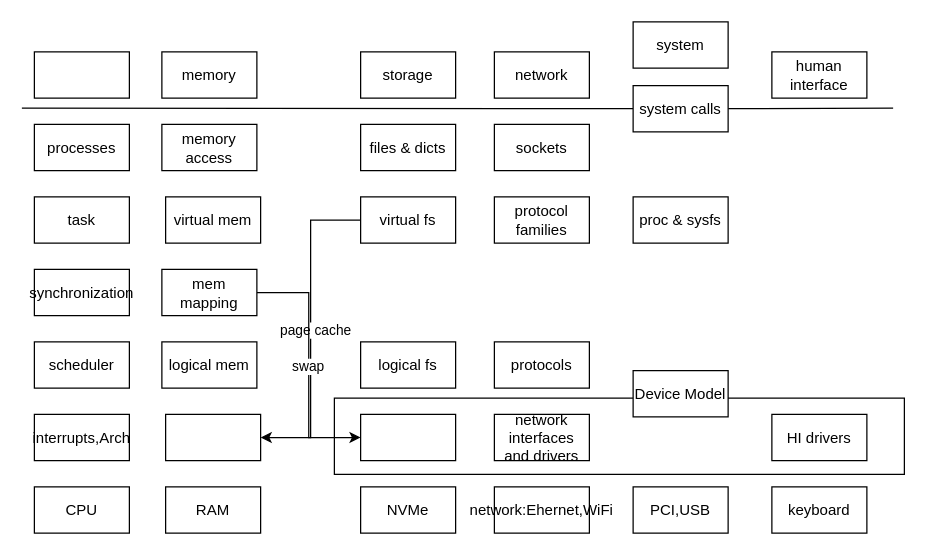
This 926x555 diagram has some shape labels left out. Each missing label, with the box of its shape:
block device: (359, 413, 456, 461)
page alloc: (164, 413, 261, 461)
process: (33, 51, 129, 98)
